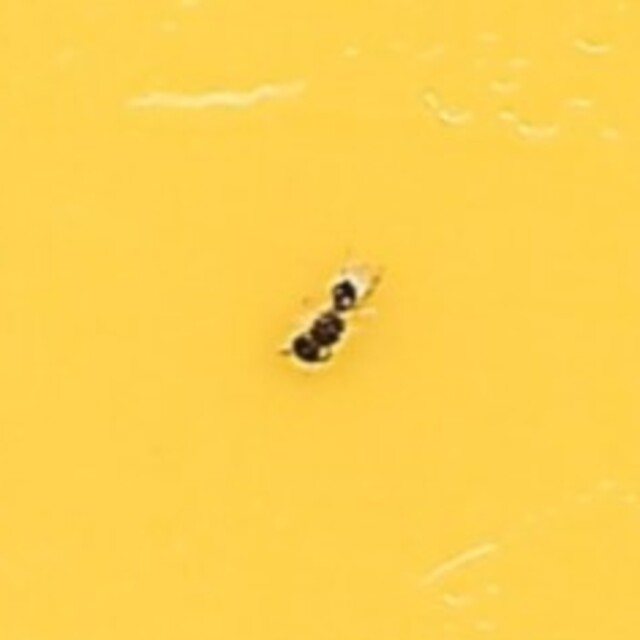Hymenoptera: (272, 270, 368, 370)
